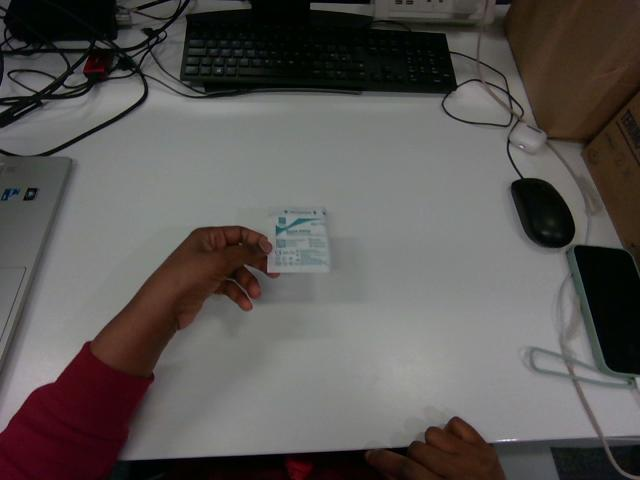gauze: (267, 207, 330, 272)
